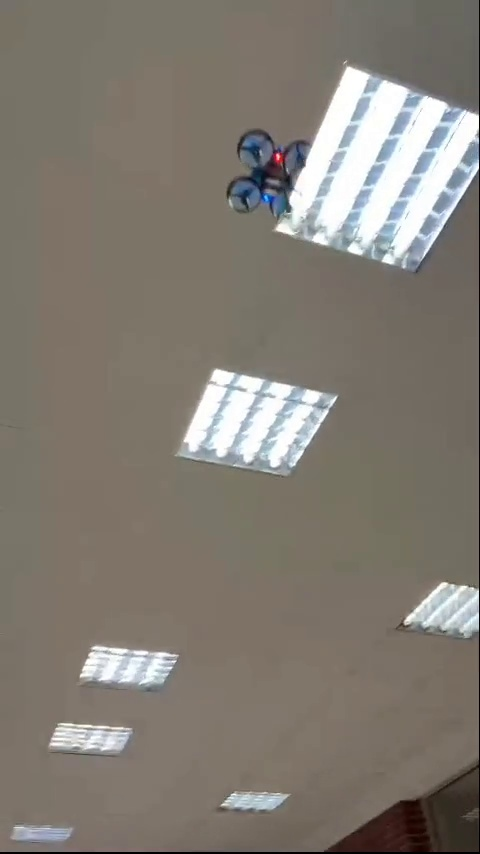drone: (225, 134, 313, 221)
